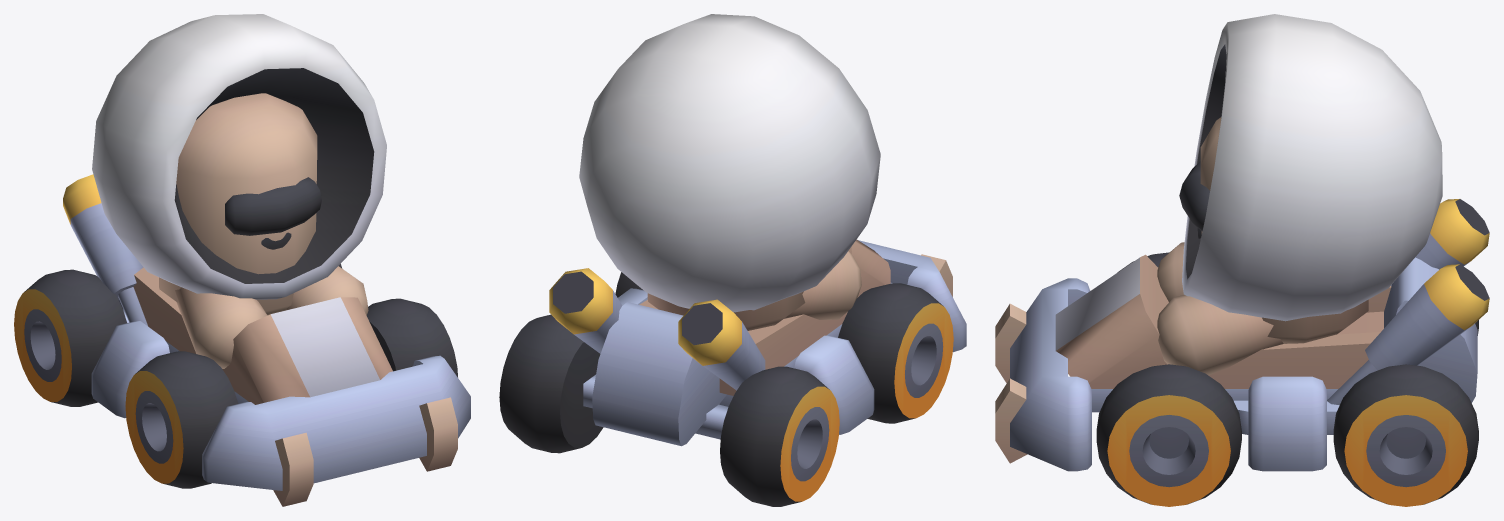
The model's file is fut-kart-bege.gltf.
3 views of the same model, side by side, from view 1: azimuth 30°, elevation 25°; view 2: azimuth 150°, elevation 25°; view 3: azimuth 270°, elevation 25° (orthographic). The views are drawn at different scales.
Visible parts, largest first — view 1: kart-oozi; view 2: kart-oozi; view 3: kart-oozi.
Boxes of the visible parts, box(x1,y1,x2,y2) form: kart-oozi: box(14, 14, 470, 506); kart-oozi: box(499, 14, 966, 506); kart-oozi: box(995, 14, 1489, 506).
Bounding box in the file's own units: 0.9354 × 1.28 × 1.37.
Materials: 1 (1 with a texture image).
